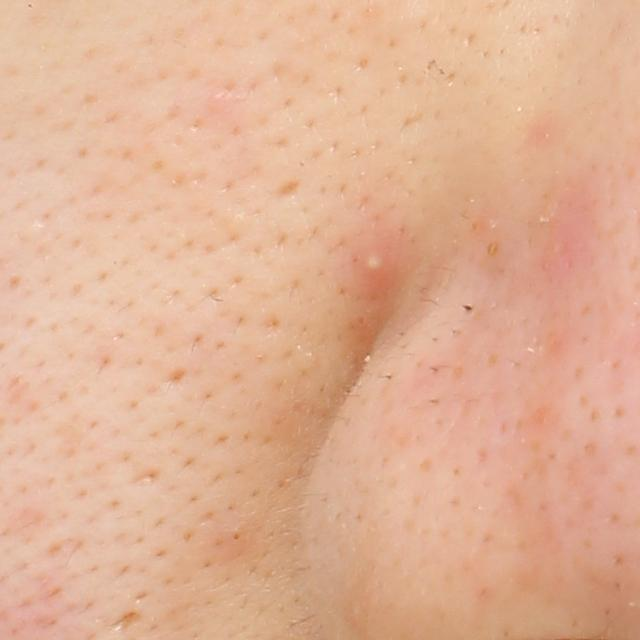atrophic_scar: (264, 176, 307, 203), (112, 606, 141, 631)
pustule: (352, 233, 404, 284)
